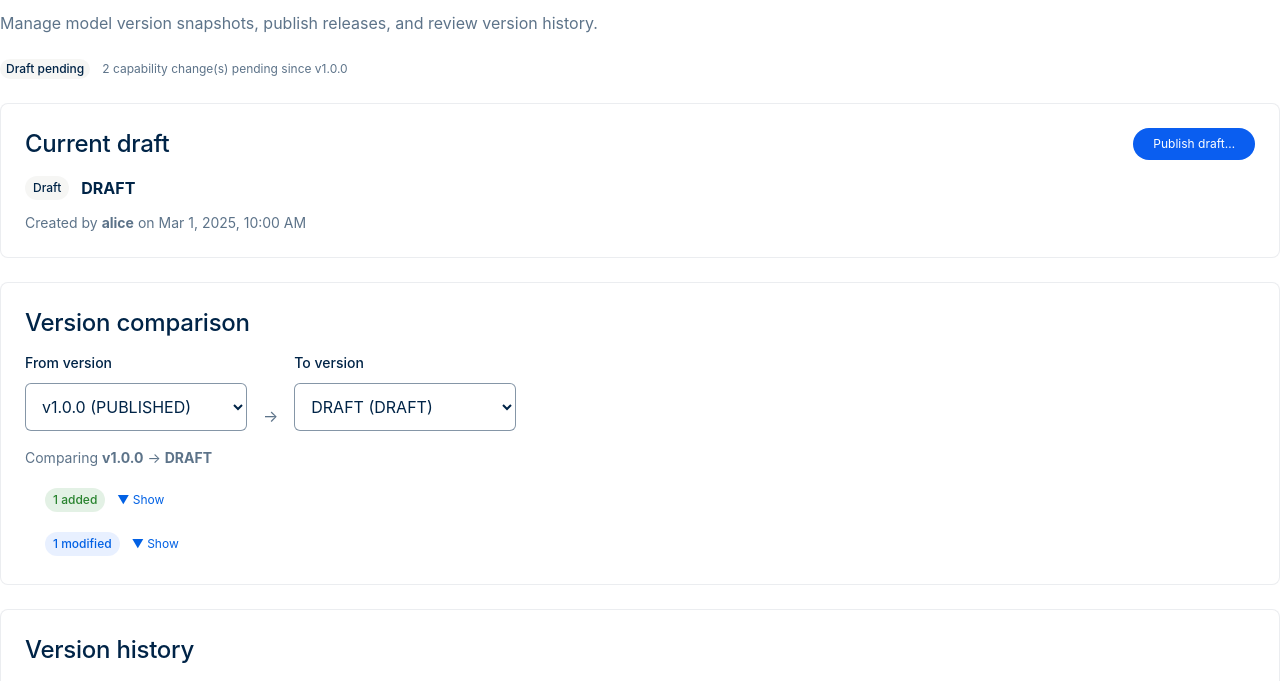
Test: ReleaseDashboardPage – publish workflow › shows "Publishing…" label while mutation is pending
The image size is (1280, 681).
What coordinates should you click on to do the following:
click the button "Publish draft…"
I would click on:
 (1194, 144)
Its box is [1133,128,1255,160].
(page scrolled)
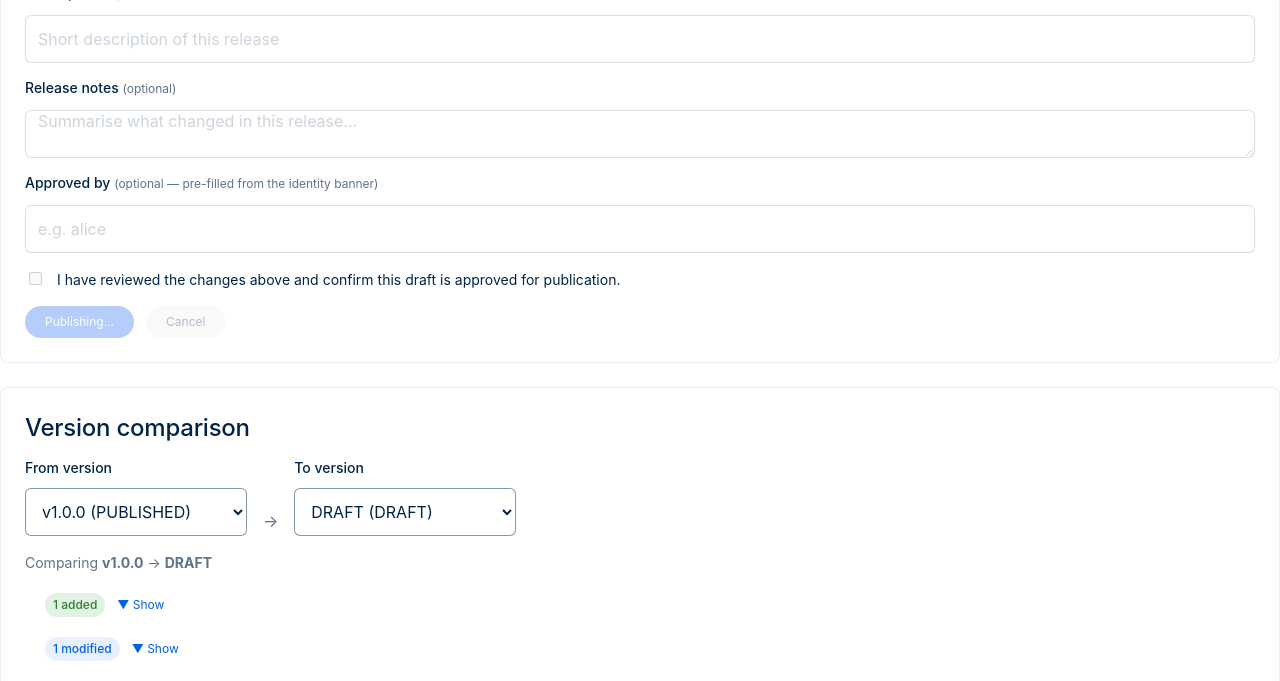
expect the button "Publishing…" is disabled: met, box [25,306,134,338]
